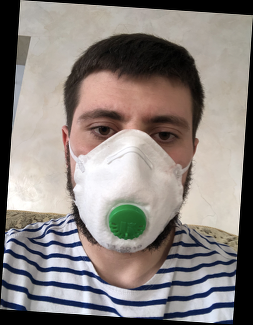with_mask: (70, 94, 189, 254)
